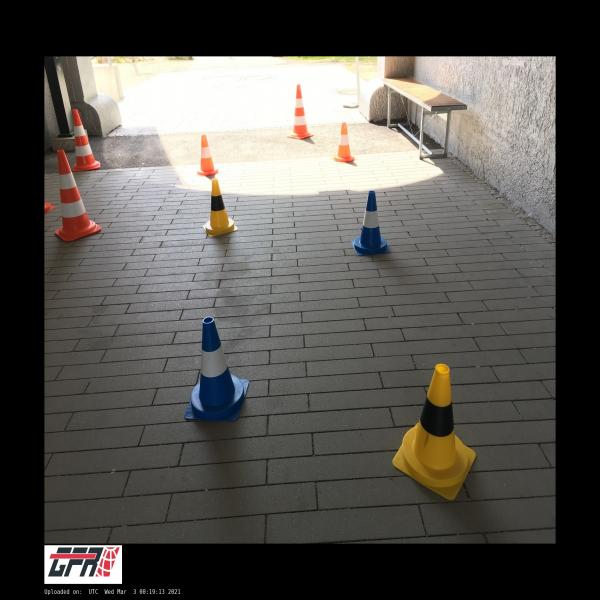blue_cone: (185, 318, 248, 420), (352, 191, 391, 256)
large_orange_cone: (54, 149, 101, 241), (73, 109, 100, 171), (288, 84, 313, 138)
orange_cone: (332, 122, 358, 162), (198, 134, 219, 176)
yellow_cone: (393, 364, 476, 499), (203, 178, 238, 236)
